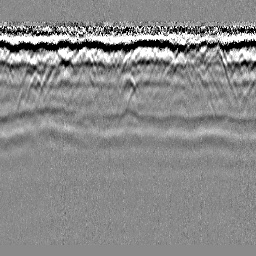cavity: (118, 72, 137, 101)
